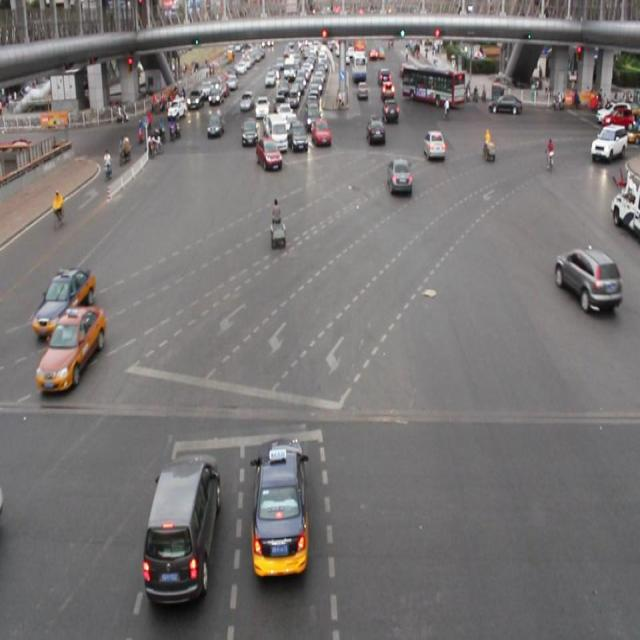car: (250, 436, 313, 582), (37, 306, 104, 396), (555, 246, 619, 309), (34, 268, 94, 335), (387, 155, 412, 197), (256, 135, 282, 171), (422, 128, 446, 160), (364, 116, 386, 147), (311, 116, 330, 148), (289, 121, 308, 153), (240, 116, 258, 148), (206, 111, 224, 138)
truck: (142, 452, 220, 606), (266, 113, 286, 152)
